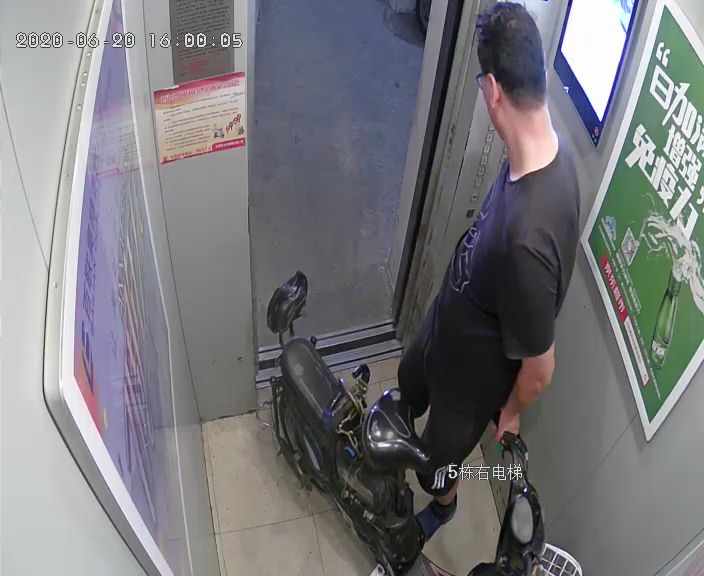Electric-bicycle: (258, 268, 588, 576)
